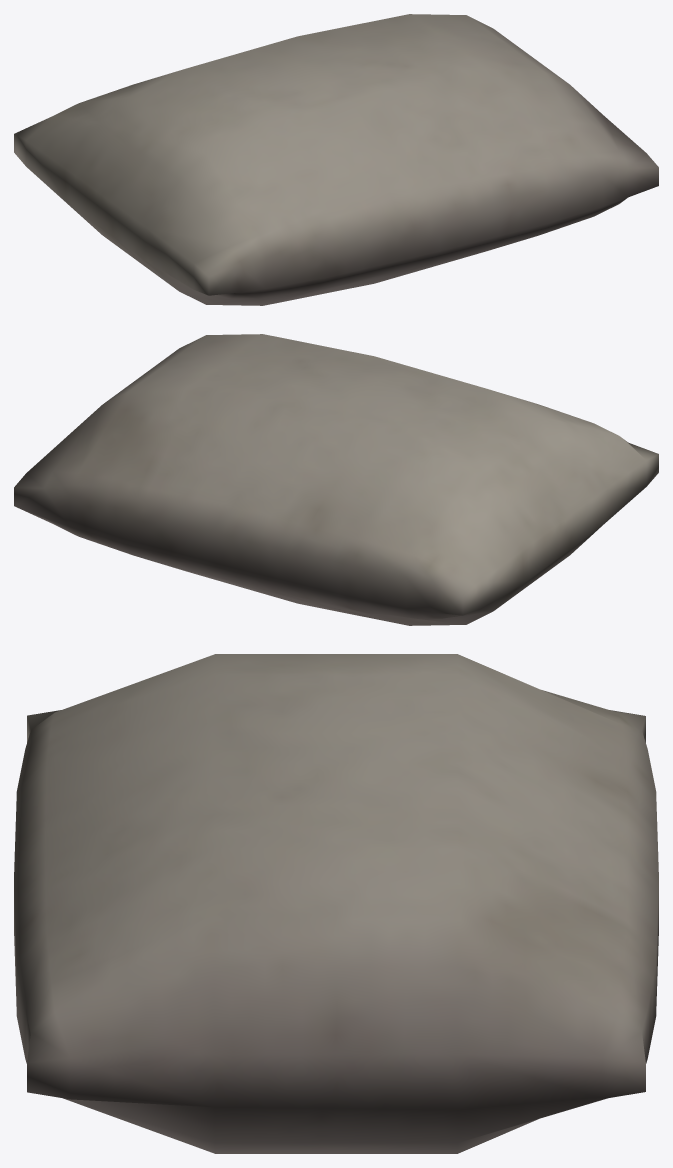
File: Pillow.fbx
3 renders of one model, top to bottom at view 1: azimuth 30°, elevation 25°; view 2: azimuth 150°, elevation 25°; view 3: azimuth 270°, elevation 25°, orthographic. The views are drawn at different scales.
Parts seen in each view (by area): view 1: bed; view 2: bed; view 3: bed.
Boxes of the visible parts, x1=… form: bed: x1=14, y1=14, x2=658, y2=305; bed: x1=14, y1=334, x2=658, y2=625; bed: x1=14, y1=654, x2=658, y2=1153.
Bounding box in the file's own units: 1.21 × 0.4818 × 0.9311.
1 material, 1 textured.
